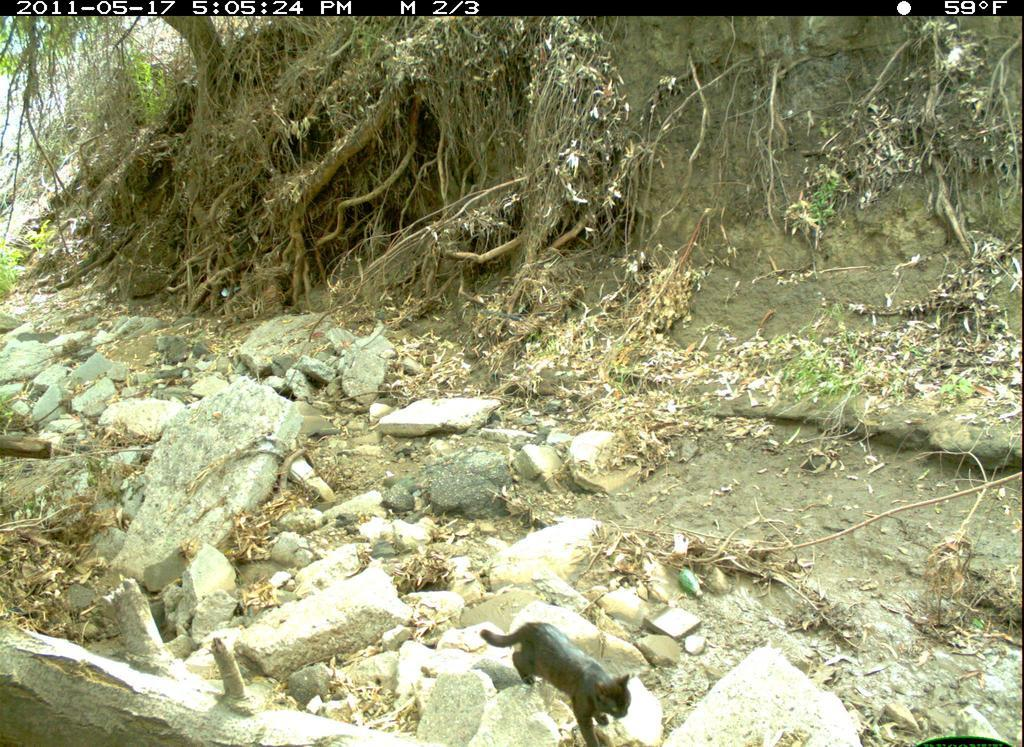cat: (473, 609, 637, 745)
